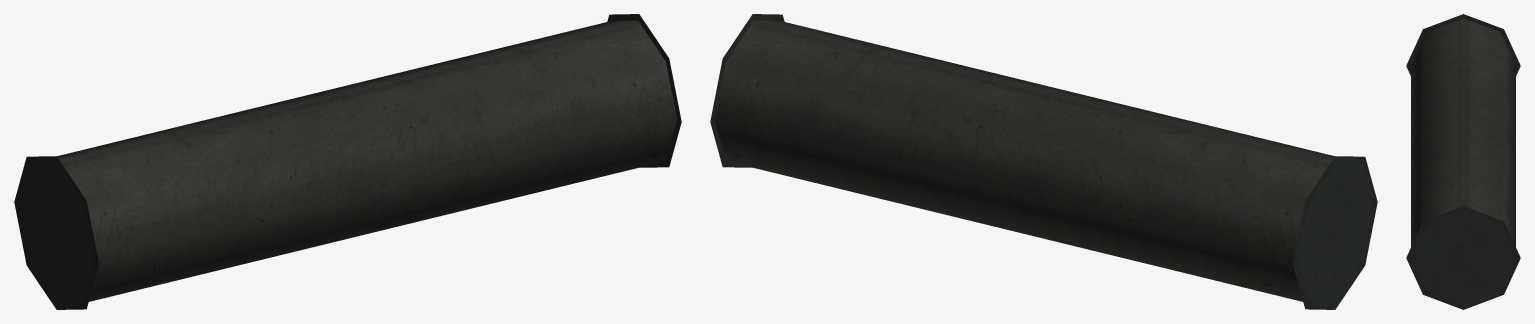
Rendered from com_pipe_8x64_single_metal_lod2.glb.
The picture shows the model from 3 angles, left to right: view 1: azimuth 30°, elevation 25°; view 2: azimuth 150°, elevation 25°; view 3: azimuth 270°, elevation 25°; orthographic projection. The views are drawn at different scales.
Parts seen in each view (by area): view 1: surf0; view 2: surf0; view 3: surf0.
Part boxes in pixels (x1,y1,x2,y2): surf0: (14,14,681,309); surf0: (710,14,1377,309); surf0: (1406,14,1520,309).
Bounding box in the file's own units: 69.13 × 17.44 × 17.44.
